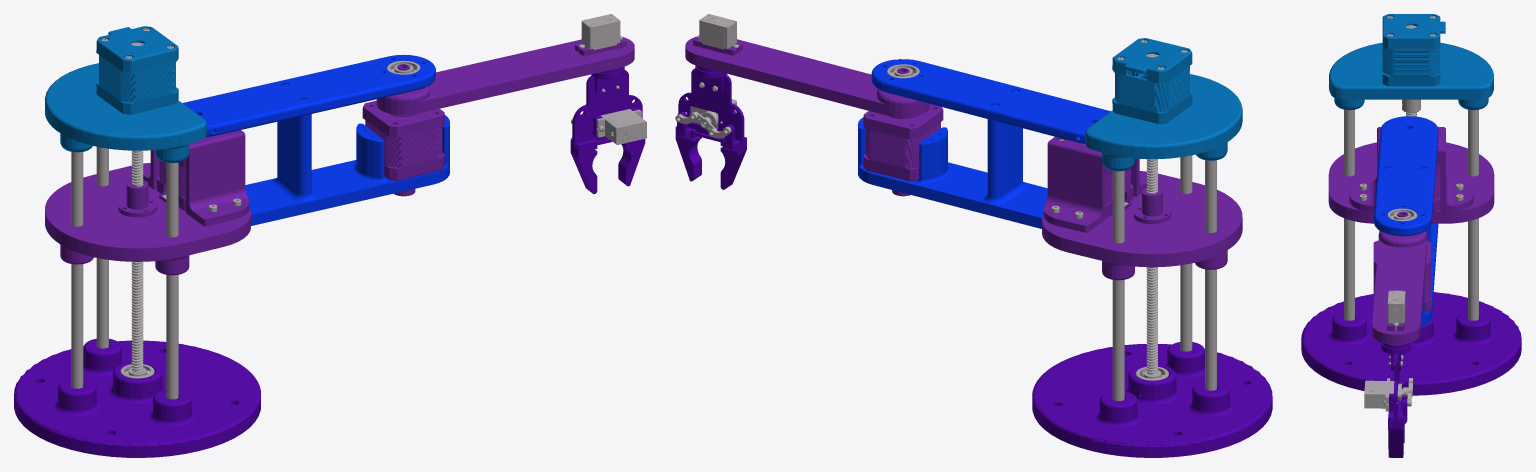
The model's file is robot_Unity_copia_1.fbx.
3 views of the same model, side by side, from view 1: azimuth 30°, elevation 25°; view 2: azimuth 150°, elevation 25°; view 3: azimuth 270°, elevation 25° (orthographic). The views are drawn at different scales.
Visible parts, largest first — view 1: Base, Brazo_1, Base_brazo_soporte, Tapa_superior, Brazo_2, Pilares, Motor_1, Garra, Husillo, Motor_2, Servomotor, Garra.001 (+1 smaller); view 2: Base, Brazo_1, Base_brazo_soporte, Tapa_superior, Brazo_2, Pilares, Motor_1, Garra, Husillo, Servomotor, Garra.002, Garra.001 (+1 smaller); view 3: Base, Tapa_superior, Brazo_1, Base_brazo_soporte, Brazo_2, Pilares, Motor_2, Motor_1, Garra, Garra.002, Servomotor, Husillo.
Part boxes in pixels (<box>): Base: <box>14,338,260,457</box>; Brazo_1: <box>182,54,449,225</box>; Base_brazo_soporte: <box>45,130,250,275</box>; Tapa_superior: <box>45,26,206,163</box>; Brazo_2: <box>376,37,634,115</box>; Pilares: <box>71,147,178,399</box>; Motor_1: <box>362,60,444,196</box>; Garra: <box>571,66,642,149</box>; Husillo: <box>101,28,173,378</box>; Motor_2: <box>571,85,646,144</box>; Servomotor: <box>579,14,622,49</box>; Garra.001: <box>570,123,597,194</box>; Base: <box>1032,342,1272,457</box>; Brazo_1: <box>857,59,1110,228</box>; Base_brazo_soporte: <box>1042,136,1242,280</box>; Tapa_superior: <box>1085,38,1242,171</box>; Brazo_2: <box>685,36,929,117</box>; Pilares: <box>1112,155,1216,400</box>; Motor_1: <box>863,64,943,196</box>; Garra: <box>678,65,745,147</box>; Husillo: <box>1117,40,1187,380</box>; Servomotor: <box>697,14,738,49</box>; Garra.002: <box>675,111,701,181</box>; Garra.001: <box>720,124,746,189</box>; Base: <box>1301,292,1521,395</box>; Tapa_superior: <box>1328,14,1494,110</box>; Brazo_1: <box>1374,116,1438,326</box>; Base_brazo_soporte: <box>1328,127,1494,223</box>; Brazo_2: <box>1372,211,1426,344</box>; Pilares: <box>1344,109,1478,320</box>; Motor_2: <box>1364,344,1412,411</box>; Motor_1: <box>1373,208,1431,312</box>; Garra: <box>1381,342,1411,422</box>; Garra.002: <box>1388,399,1407,457</box>; Servomotor: <box>1387,290,1405,330</box>; Husillo: <box>1387,16,1435,116</box>.
Size of the model in its own units: 45007 by 25900 by 16000.
